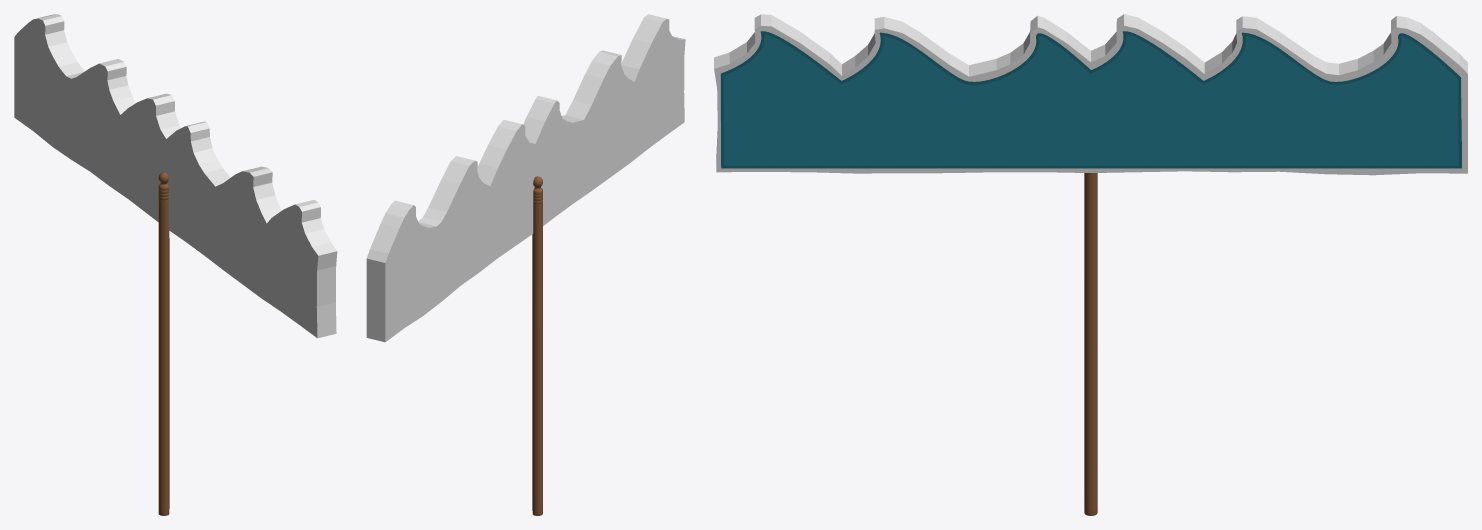
The model's file is Ola4_scn4.fbx.
3 views of the same model, side by side, from view 1: azimuth 30°, elevation 25°; view 2: azimuth 150°, elevation 25°; view 3: azimuth 270°, elevation 25° (orthographic). The views are drawn at different scales.
Parts seen in each view (by area): view 1: pCube11; view 2: pCube11; view 3: pCube11.
Part boxes in pixels (<box>): pCube11: <box>14,14,337,515</box>; pCube11: <box>366,14,685,515</box>; pCube11: <box>714,14,1467,515</box>.
Size of the model in its own units: 0.8666 by 12.68 by 17.3.
